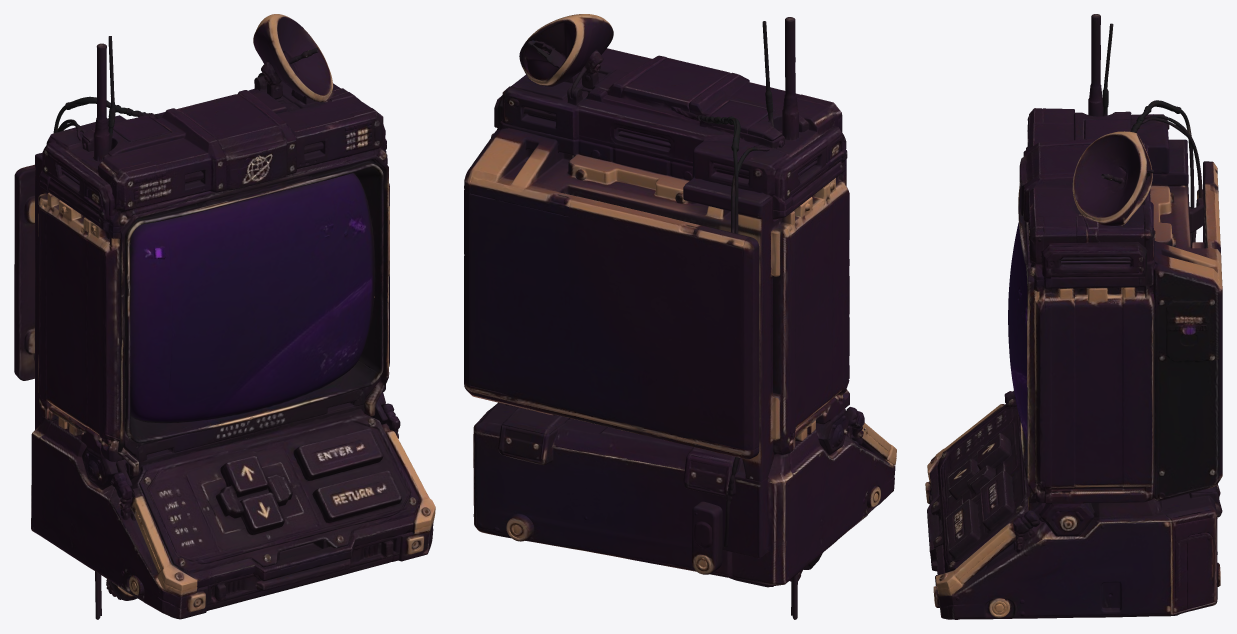
File: console.glb
The picture shows the model from 3 angles, left to right: view 1: azimuth 30°, elevation 25°; view 2: azimuth 150°, elevation 25°; view 3: azimuth 270°, elevation 25°; orthographic projection. The views are drawn at different scales.
Visible parts, largest first — view 1: tripo_node_a25ba395-9a04-4665-abb0-1a2662a63bbc; view 2: tripo_node_a25ba395-9a04-4665-abb0-1a2662a63bbc; view 3: tripo_node_a25ba395-9a04-4665-abb0-1a2662a63bbc.
Boxes of the visible parts, bbox=[...] form: tripo_node_a25ba395-9a04-4665-abb0-1a2662a63bbc: bbox=[14, 14, 435, 619]; tripo_node_a25ba395-9a04-4665-abb0-1a2662a63bbc: bbox=[464, 14, 896, 619]; tripo_node_a25ba395-9a04-4665-abb0-1a2662a63bbc: bbox=[925, 14, 1222, 619].
Size of the model in its own units: 0.5271 by 0.9804 by 0.4814.
1 material, 1 textured.
